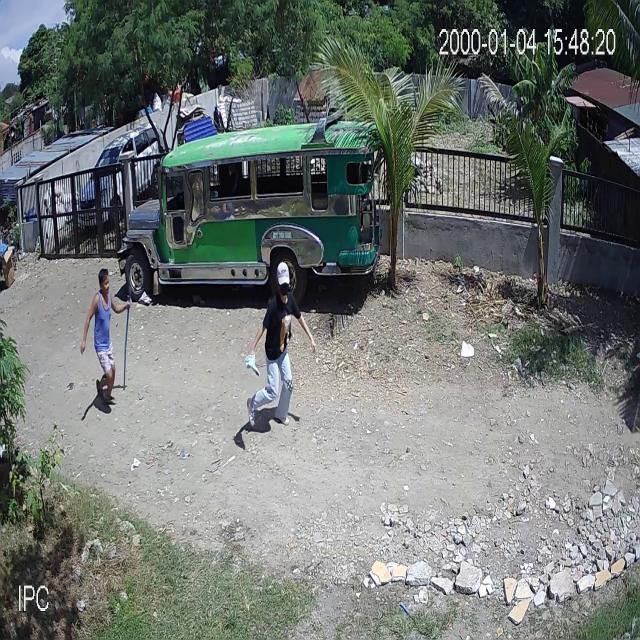running: (245, 262, 317, 430), (80, 268, 131, 406)
